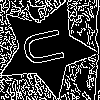U: (21, 23, 75, 69)
